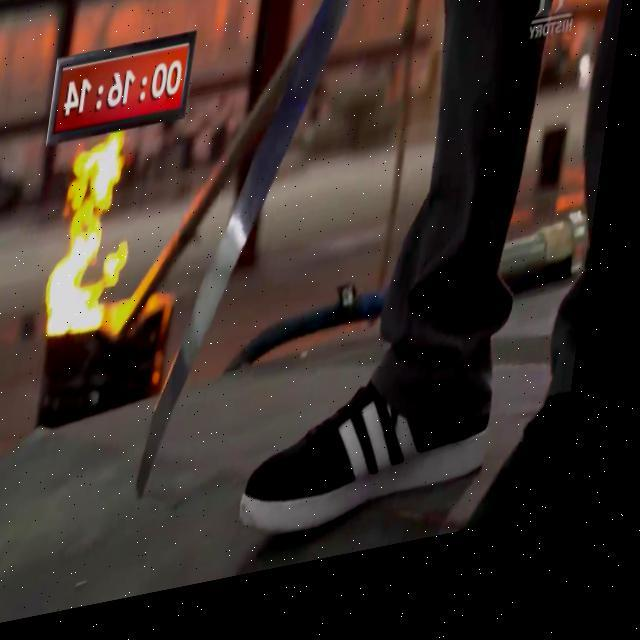Fire: (48, 141, 141, 343), (572, 0, 622, 24)
